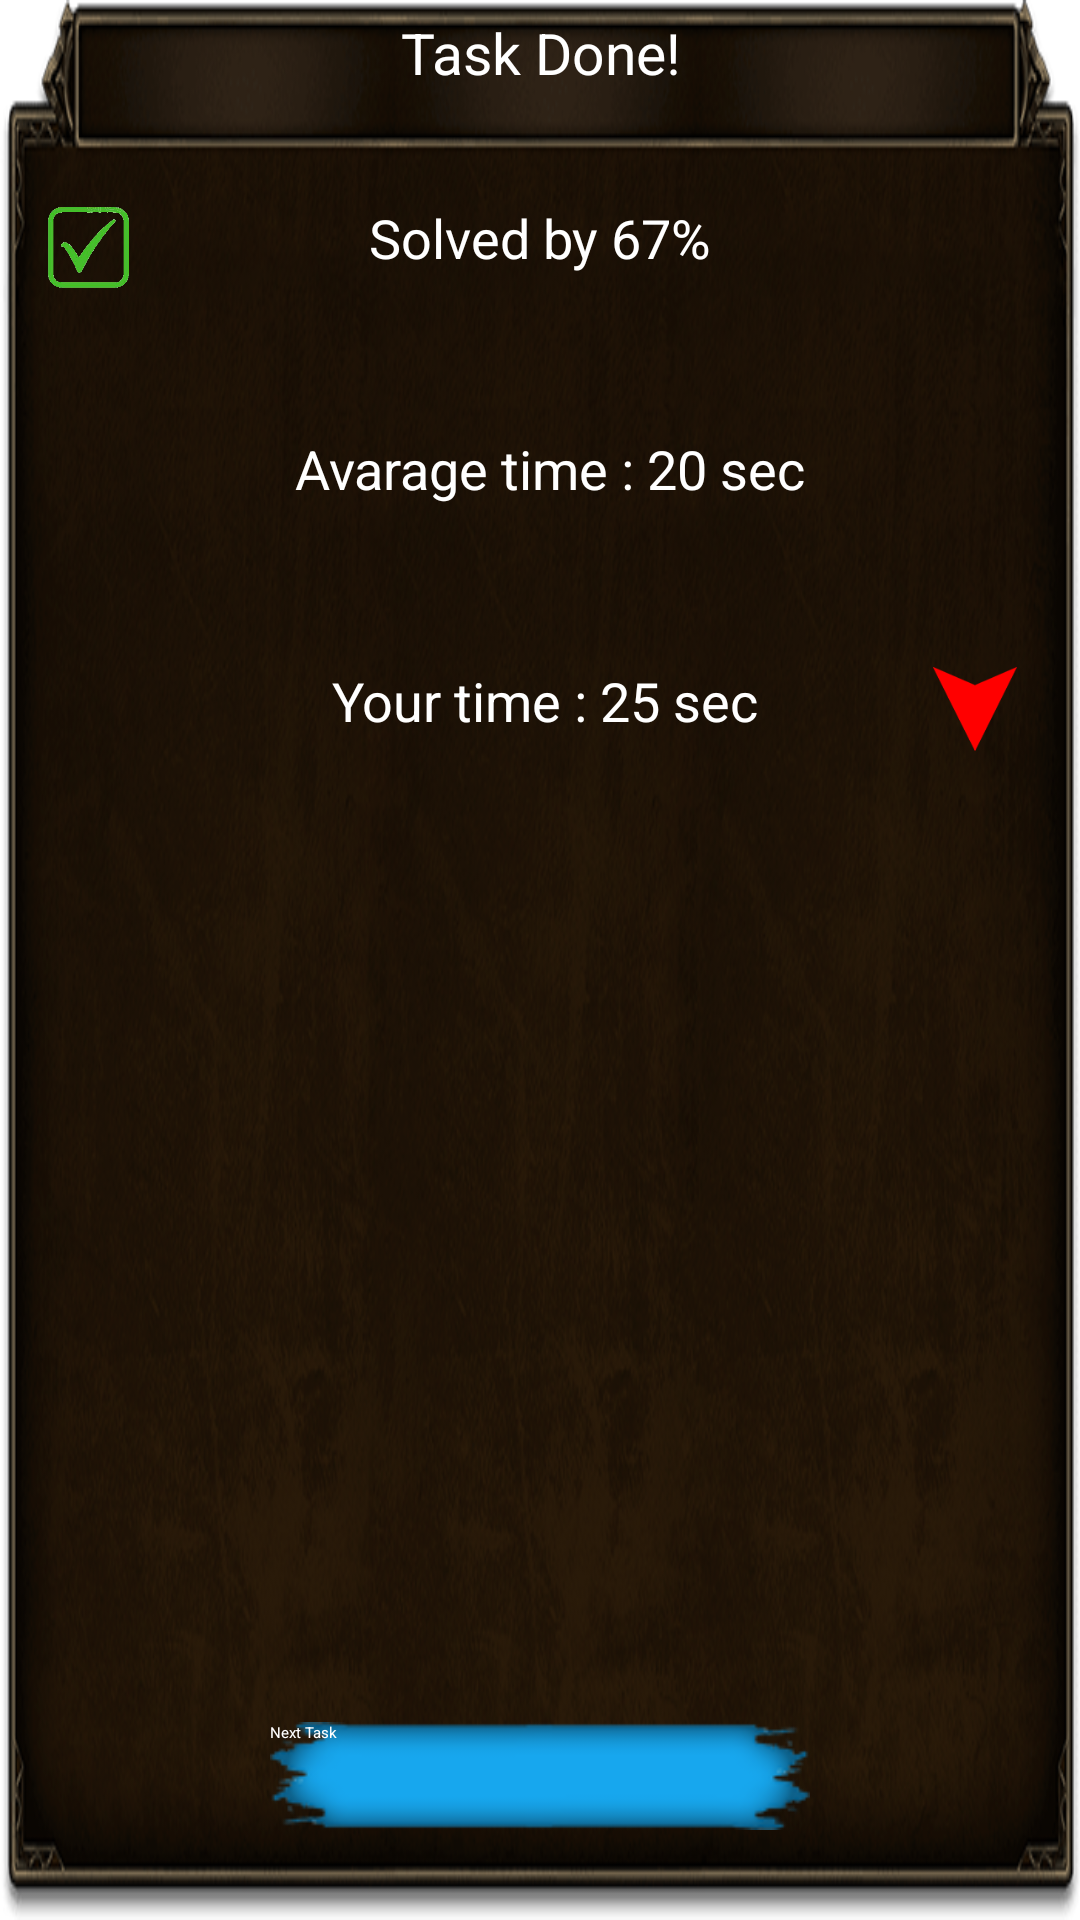

Where to tap for icons on this 1080 x 1920 app screen, as point (x, y):
right: point (88, 247)
